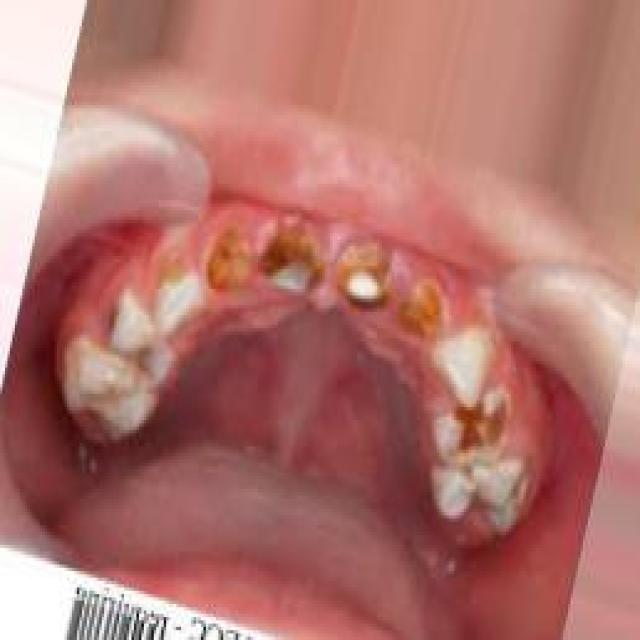caries: (253, 212, 324, 302), (324, 225, 387, 316), (442, 383, 512, 458), (388, 268, 450, 344), (144, 243, 204, 318), (202, 224, 258, 299)
